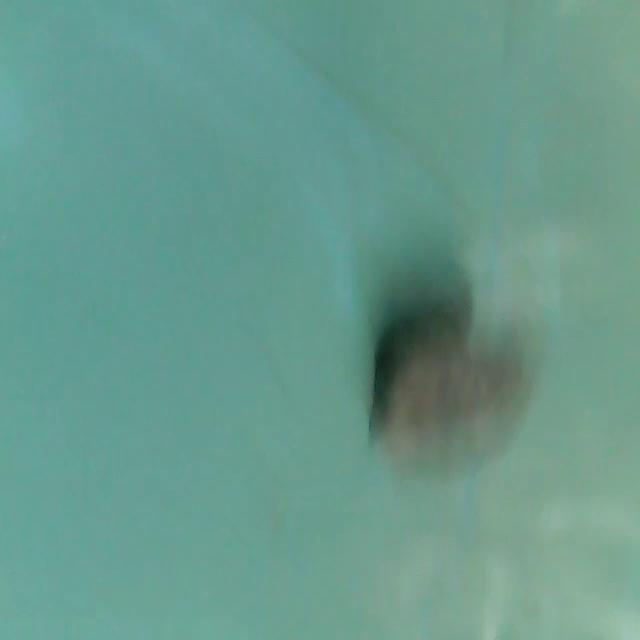rock: (359, 288, 539, 490)
